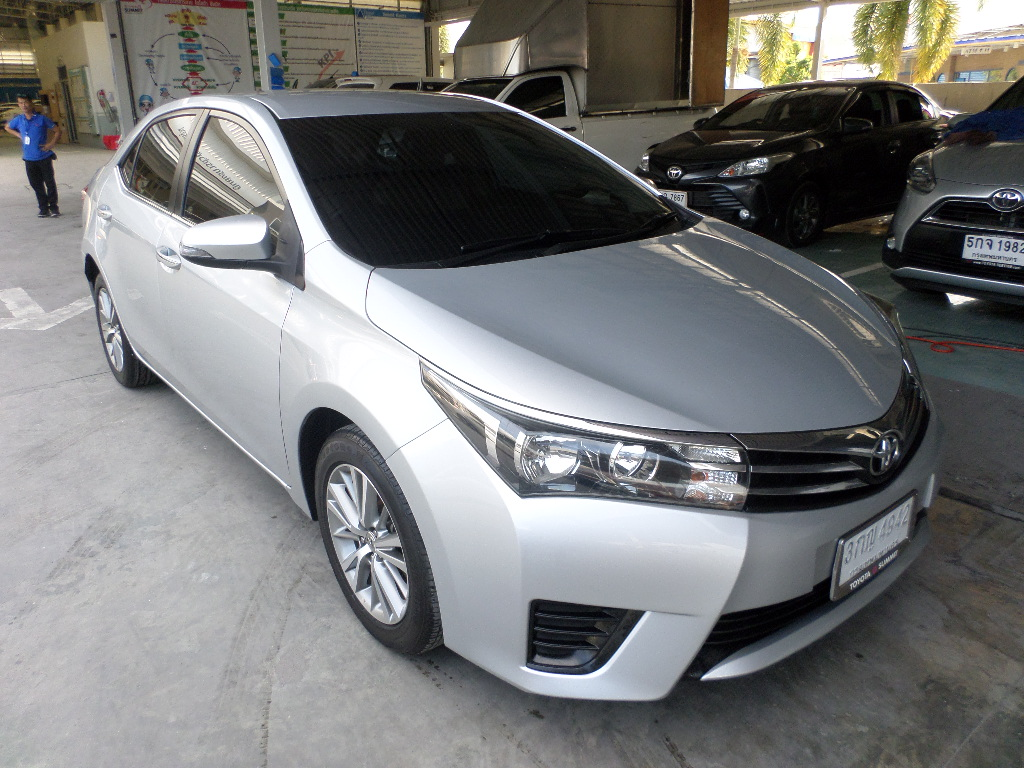sedan: (81, 85, 939, 701)
